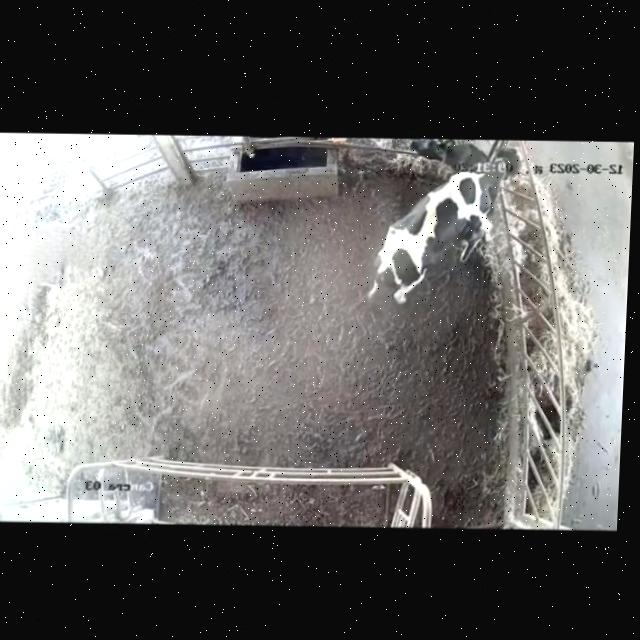ride: (356, 149, 520, 328)
stand: (389, 139, 493, 188)
